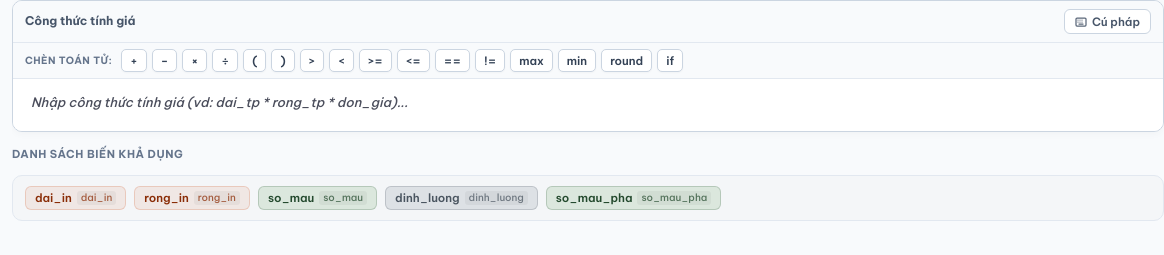
thao tác trên ô công thức › gõ đúng tên biến → tự hoá chip ngay
In the field: (588, 103) [27,91,1149,115], type "dai_in"
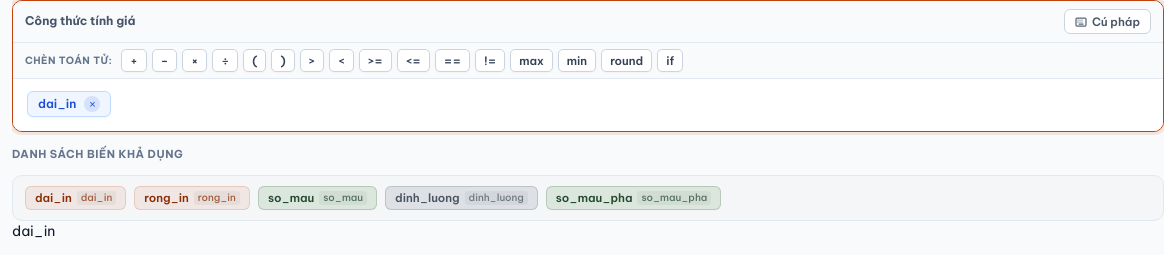
Check: the field is empty, box [117,92,1149,116]
Check: the text "dai_in" below "Chèn toán tử:" is shown, box [38,96,76,111]
